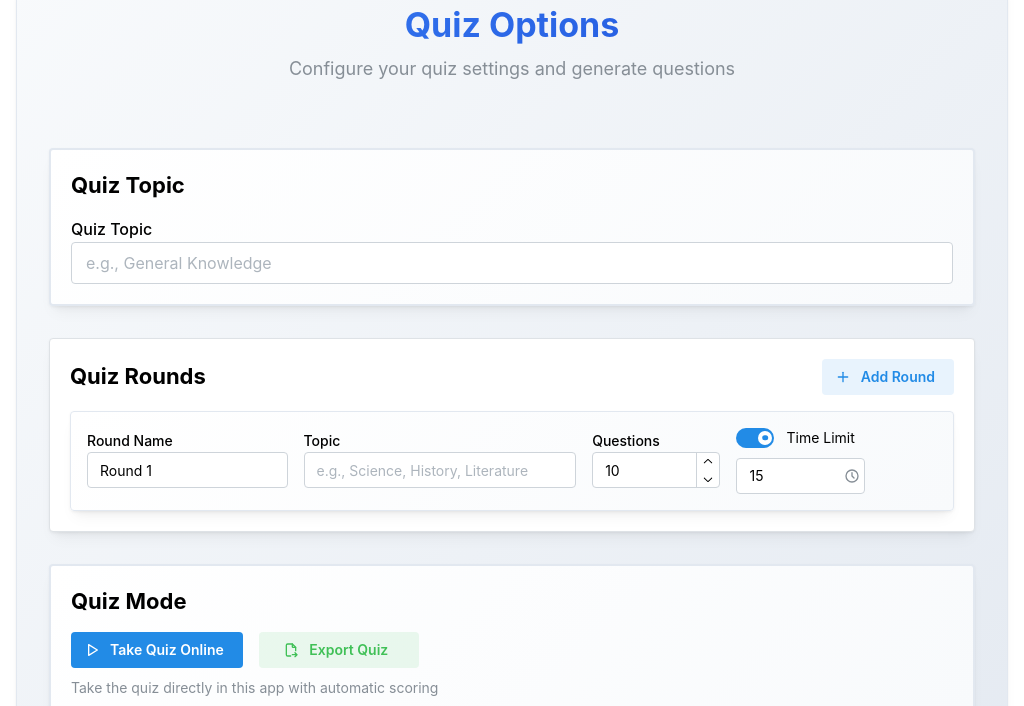
Scenario: QuizOptions component › updates summary when configuration changes
# Add a round
What coordinates should you click on to do the following:
click the button "Add Round"
I would click on:
 (888, 377)
Its box is [822,359,954,395].
(page scrolled)
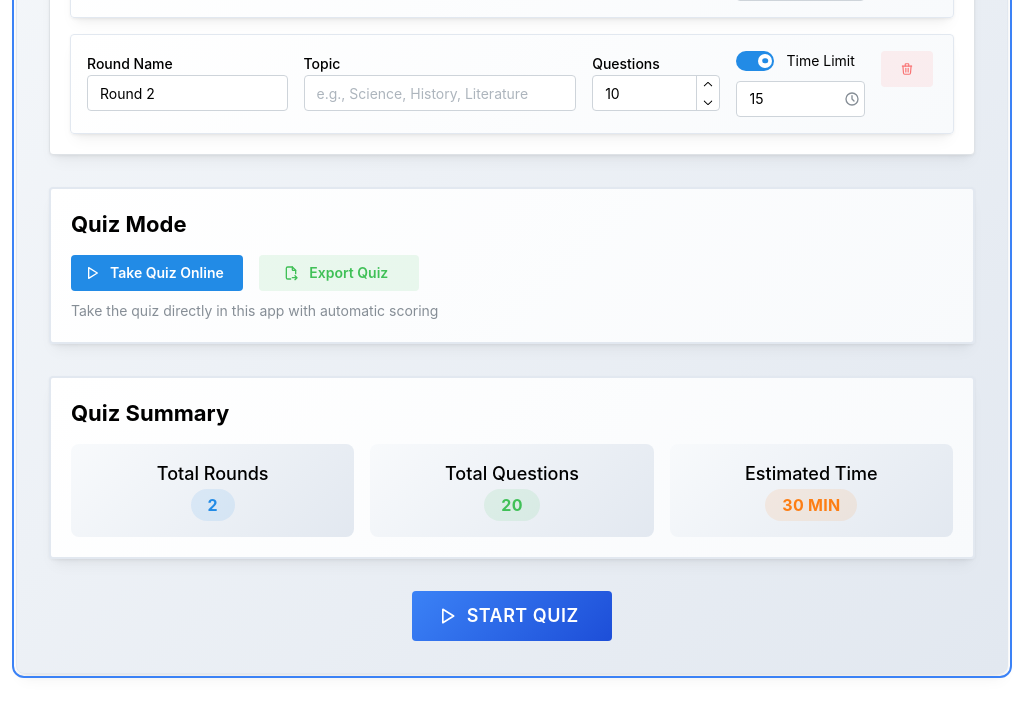
Expected: the text "2" is shown, [208,490,218,520]
Result: the text "20" is shown at [501,490,523,520]
Result: the text "30 min" is shown at [782,490,840,520]
